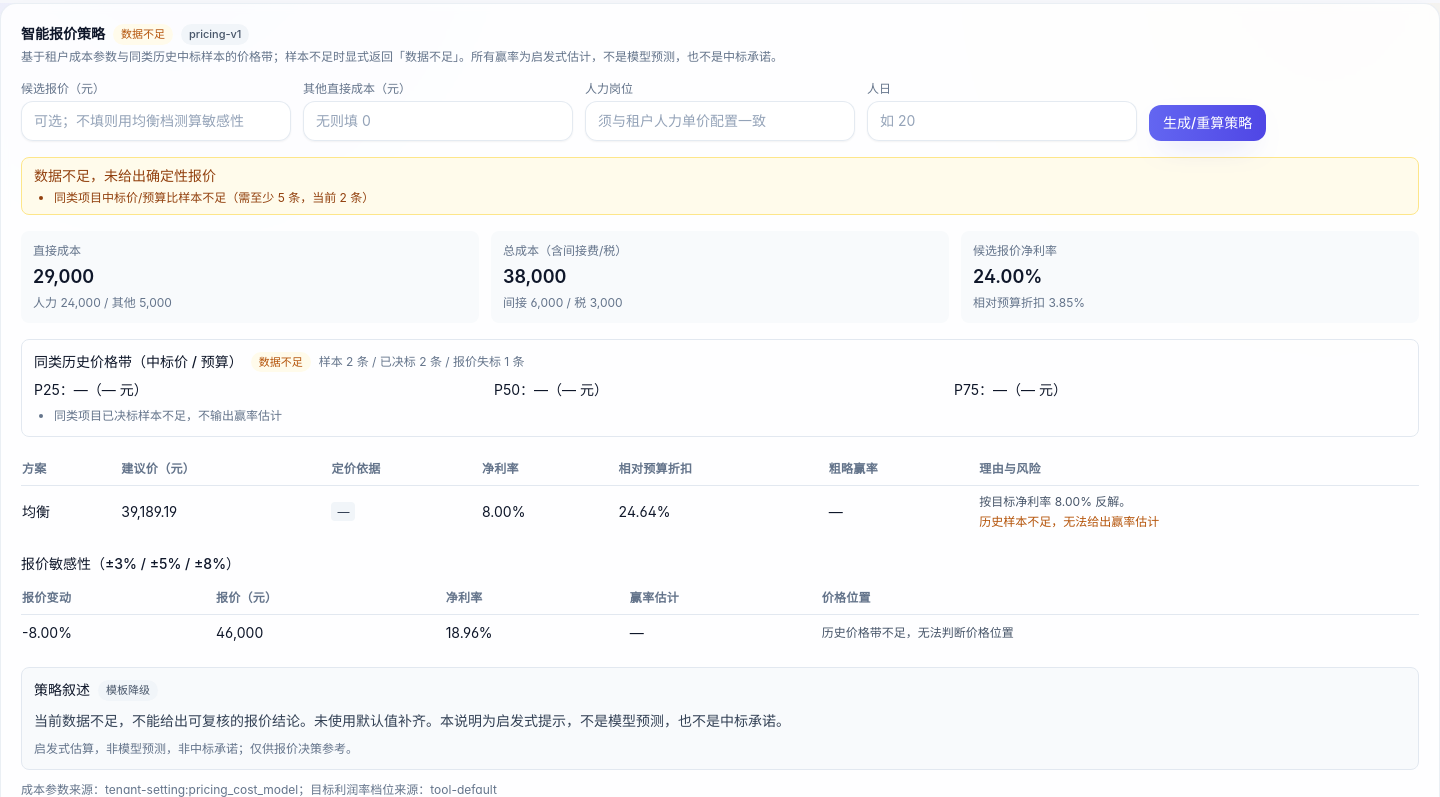
PricingStrategyPanel › posts candidate inputs and renders the generated strategy
Expected: the text "数据不足" next to "智能报价策略" is shown, top-left (121, 27), bottom-right (165, 41)
Type "50000" into the field with placeholder "可选；不填则用均衡档测算敏感性". click: (156, 120)
box: top-left (21, 100), bottom-right (291, 140)
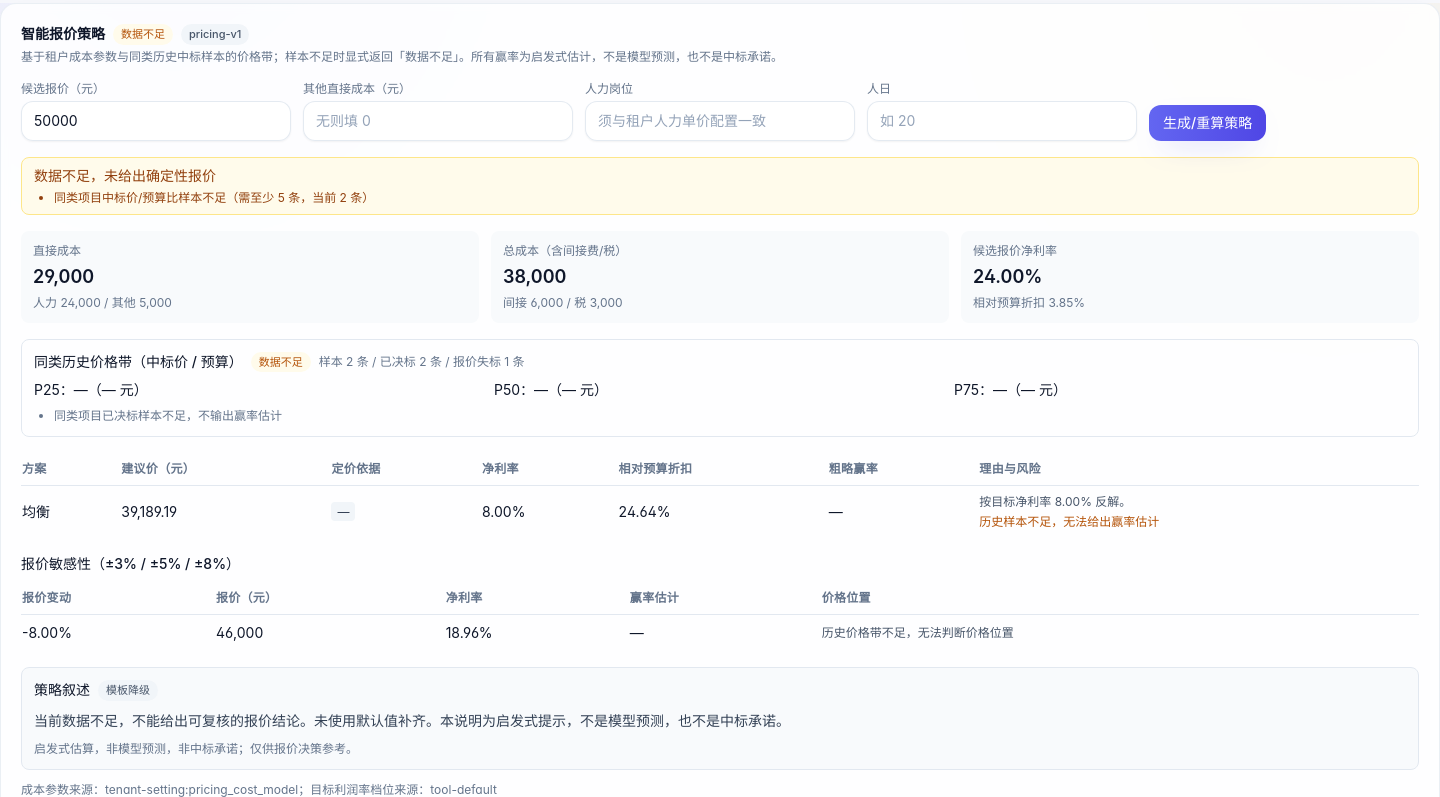
Type "0" into the field with placeholder "无则填 0". click: (438, 120)
box: top-left (303, 100), bottom-right (573, 140)
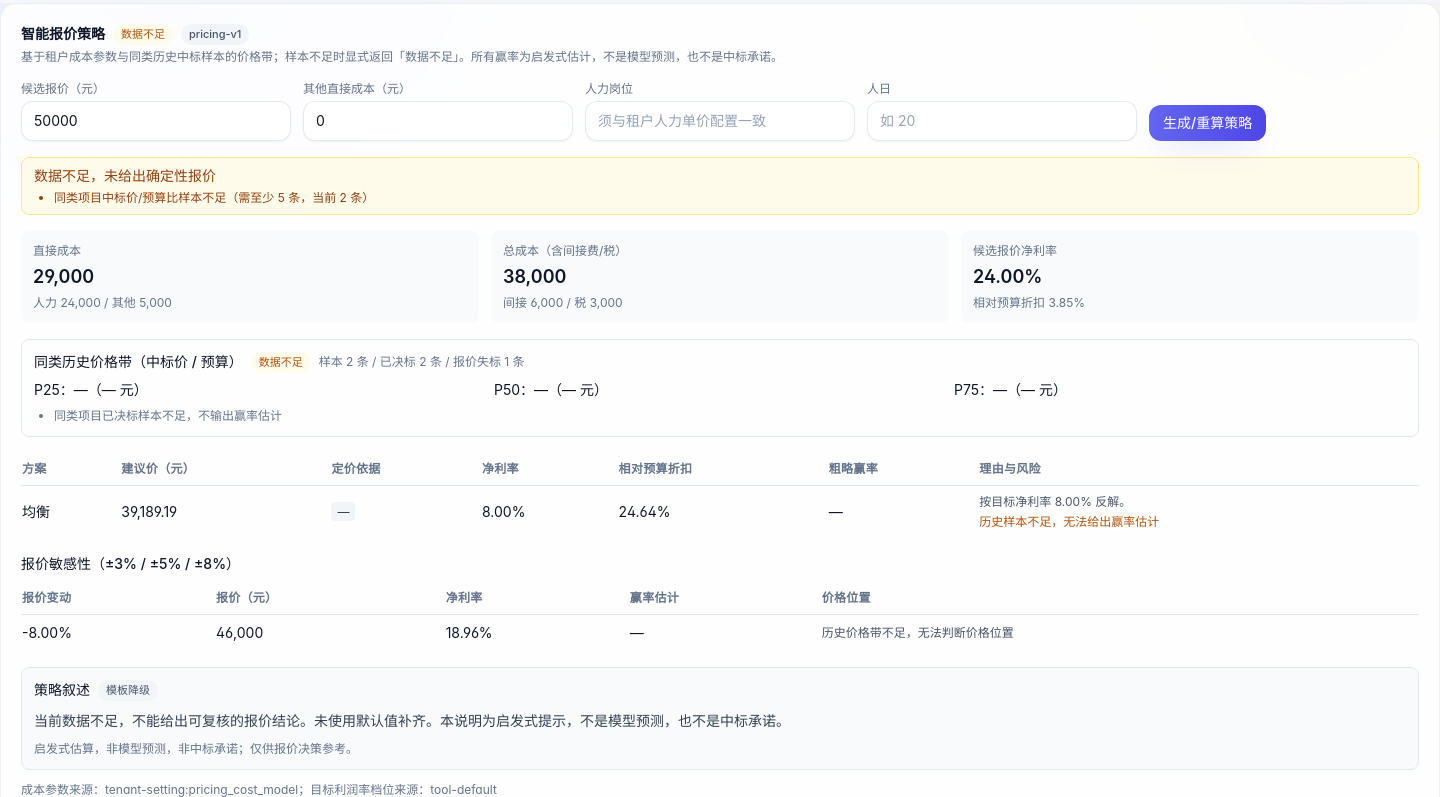
Type "工程师" into the field with placeholder "须与租户人力单价配置一致". click: (720, 120)
box: top-left (585, 100), bottom-right (855, 140)
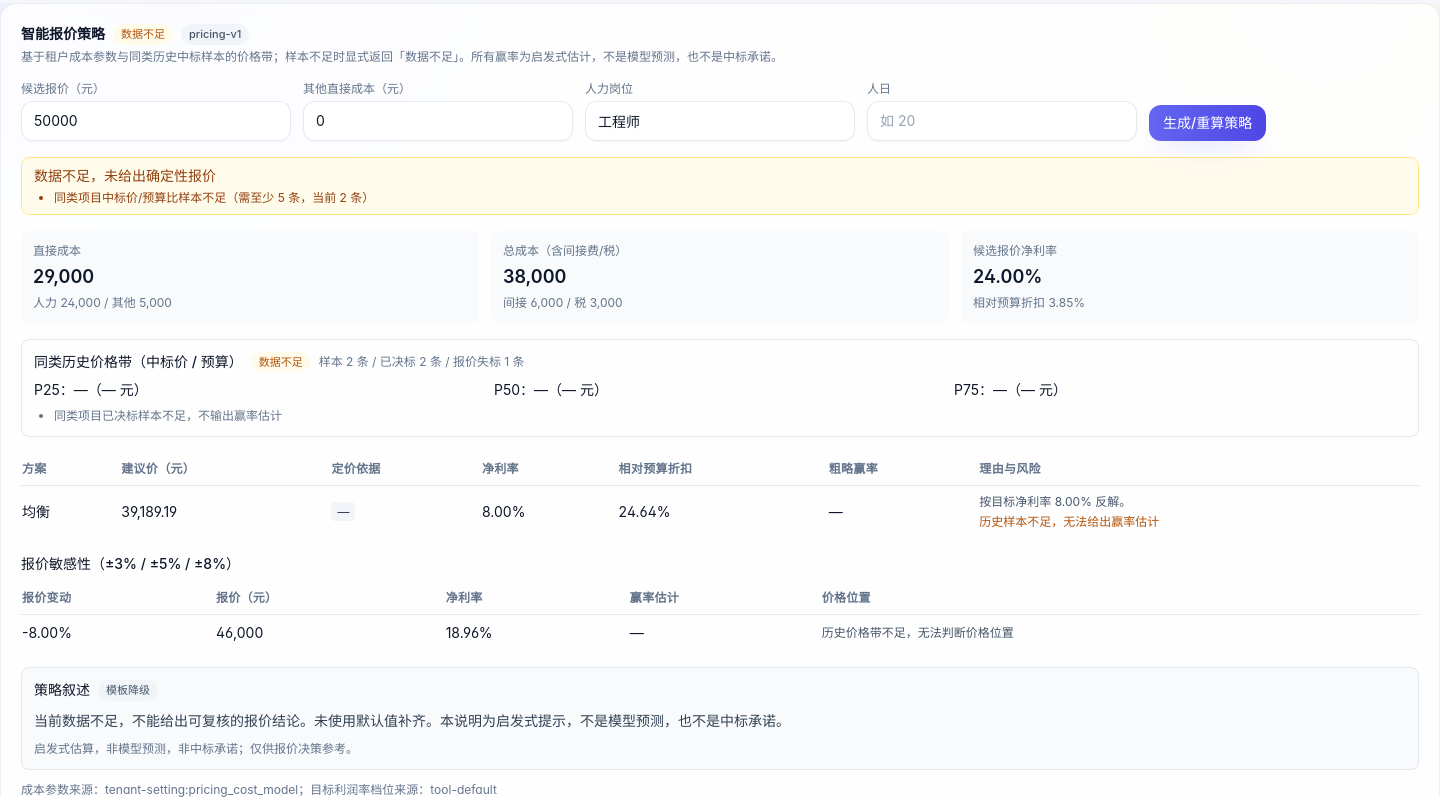
Type "20" into the field with placeholder "如 20". click: (1002, 120)
box: top-left (867, 100), bottom-right (1137, 140)
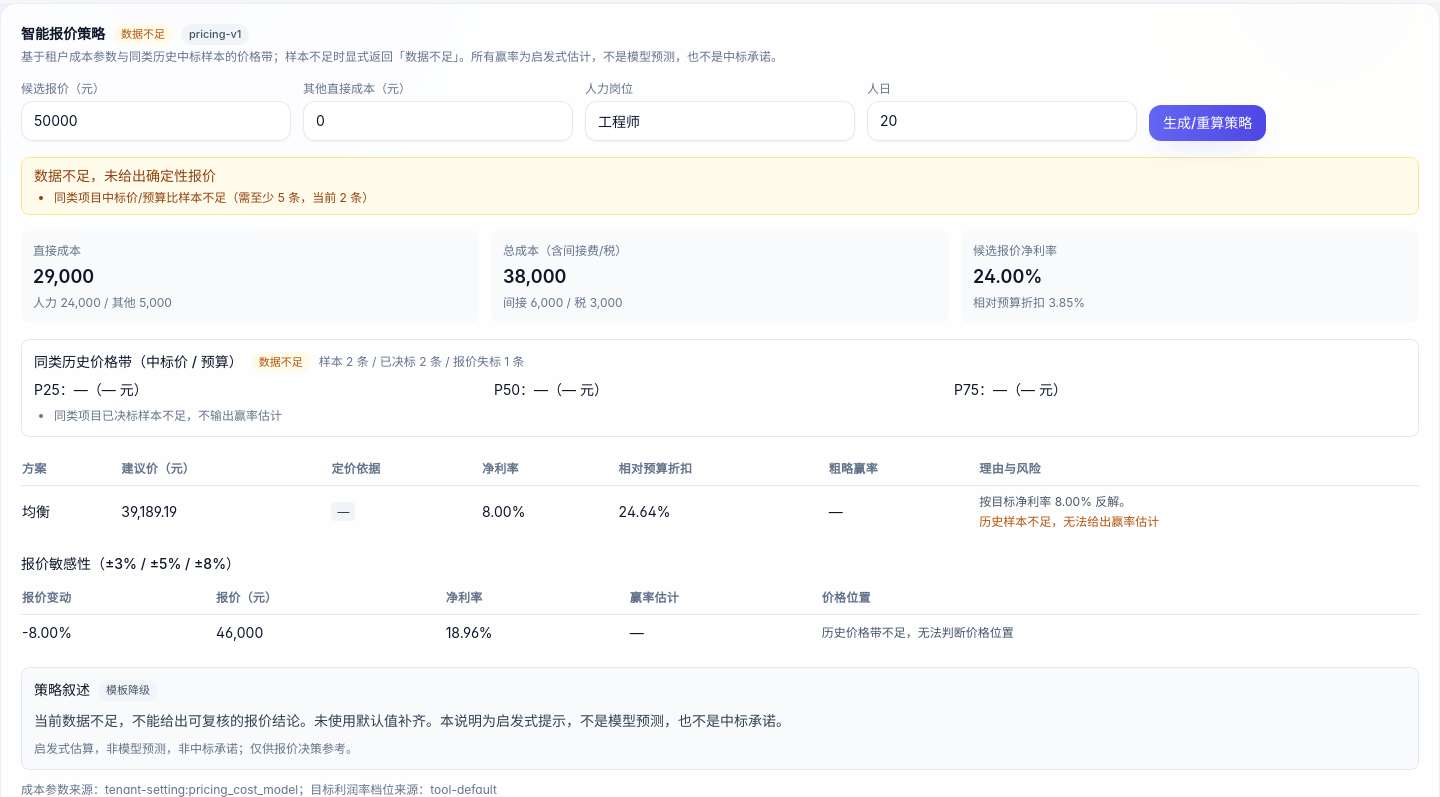
Click the button with aria-label "生成报价策略". click: (1208, 122)
box: top-left (1149, 104), bottom-right (1266, 140)
(page scrolled)
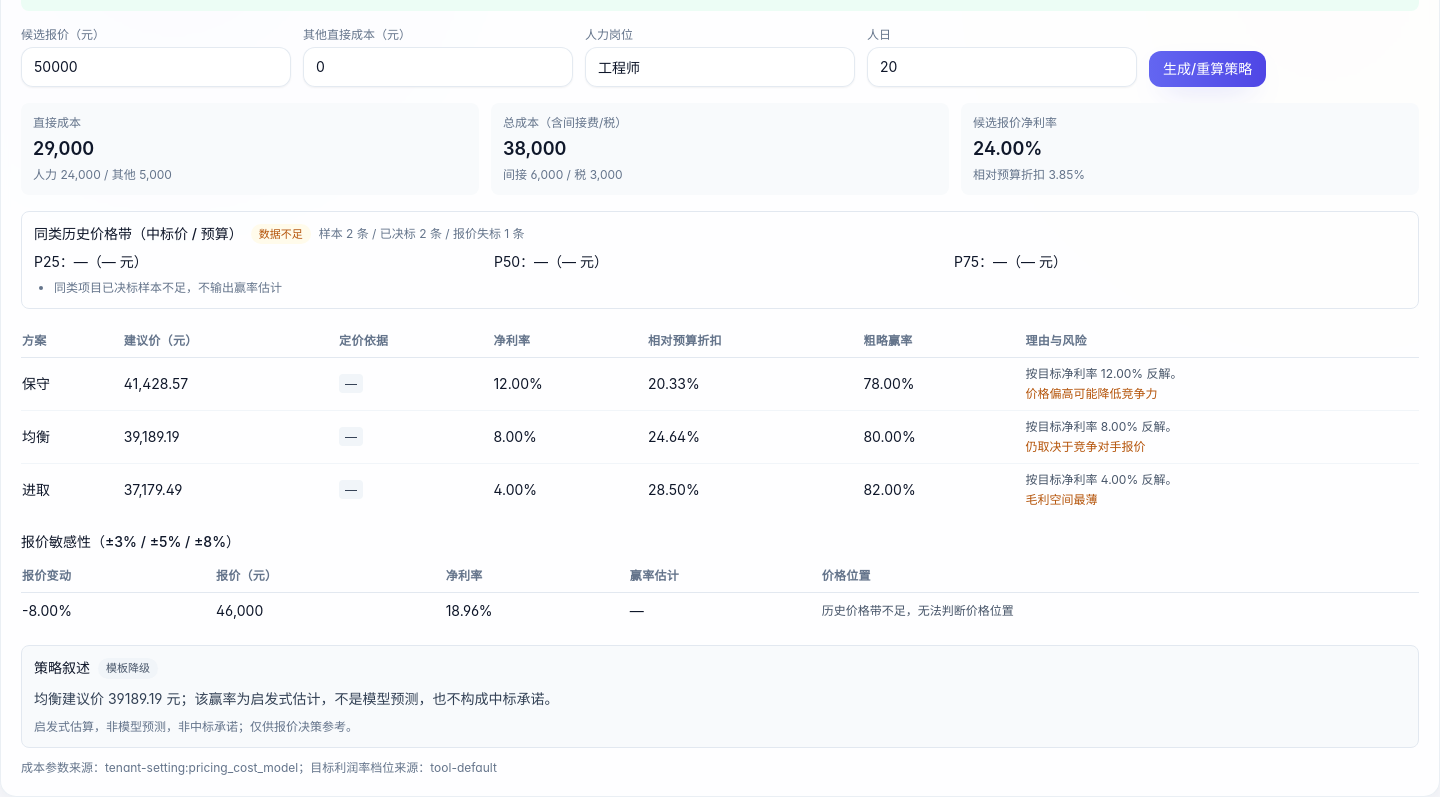
Expected: the text "保守" is shown, top-left (21, 358), bottom-right (123, 410)
Expected: the text "进取" is shown, top-left (21, 464), bottom-right (123, 516)
Expected: the text "均衡建议价 39189.19 元；该赢率为启发式估计，不是模型预测，也不构成中标承诺。" is shown, top-left (34, 690), bottom-right (558, 706)
